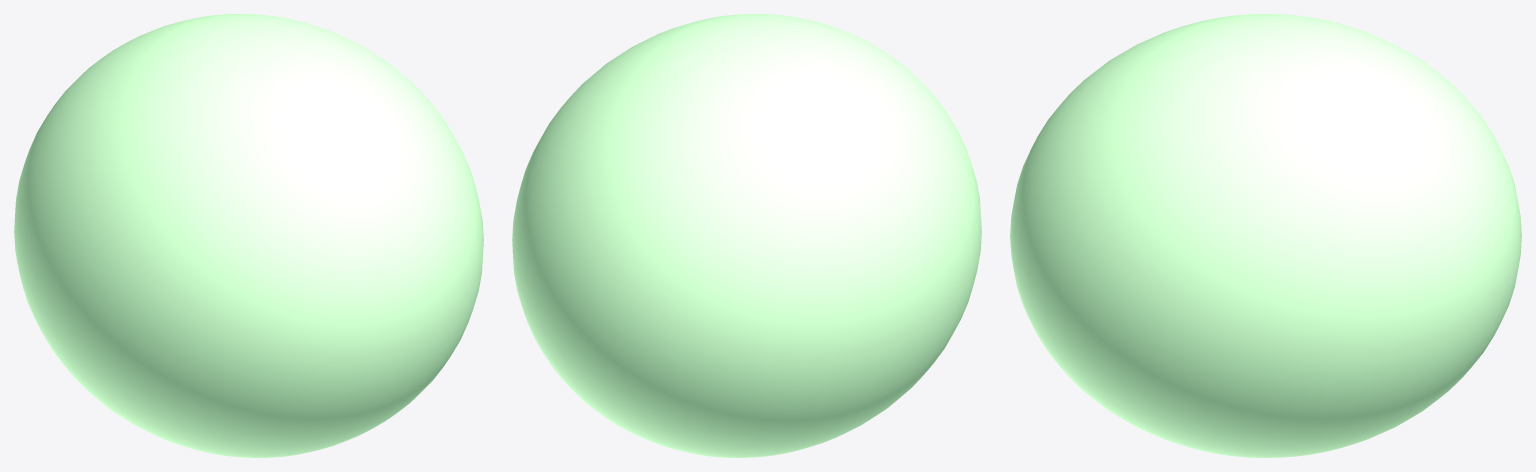
File: worm_segment.glb
The picture shows the model from 3 angles, left to right: view 1: azimuth 30°, elevation 25°; view 2: azimuth 150°, elevation 25°; view 3: azimuth 270°, elevation 25°; orthographic projection.
Parts seen in each view (by area): view 1: Segment_0; view 2: Segment_0; view 3: Segment_0.
Part boxes in pixels (box(x1,y1,x2,y2)): Segment_0: box(14, 14, 483, 457); Segment_0: box(512, 14, 981, 457); Segment_0: box(1010, 14, 1521, 457).
Bounding box in the file's own units: 1.02 × 0.9639 × 1.12.
